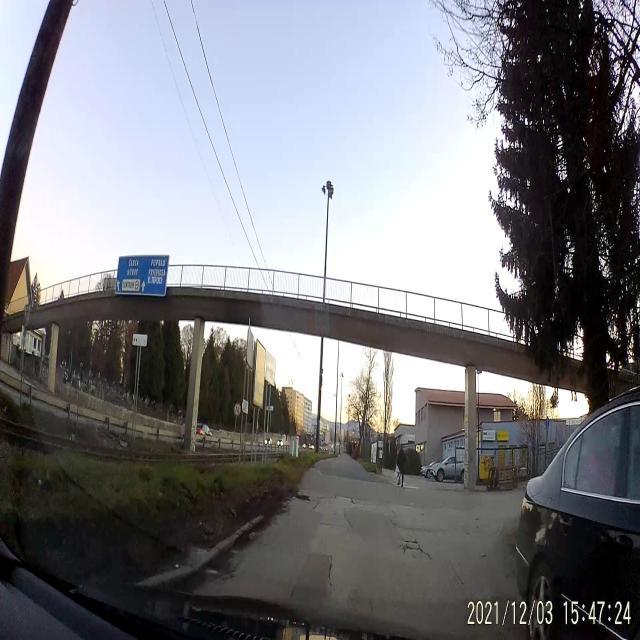Pothole: (400, 538, 420, 554), (205, 565, 220, 578), (328, 554, 333, 590), (296, 492, 312, 503)
